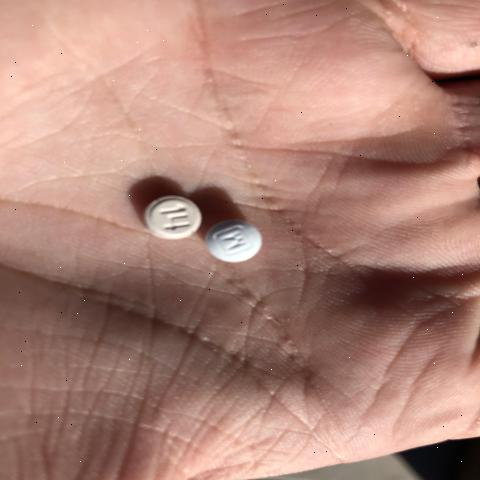Pill: (205, 206, 272, 276), (128, 178, 198, 243)
